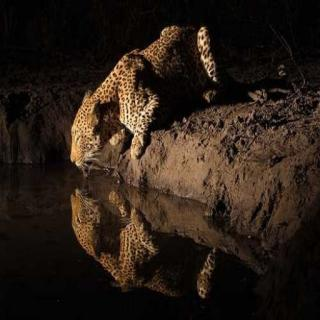Leopard: (64, 26, 264, 180)
